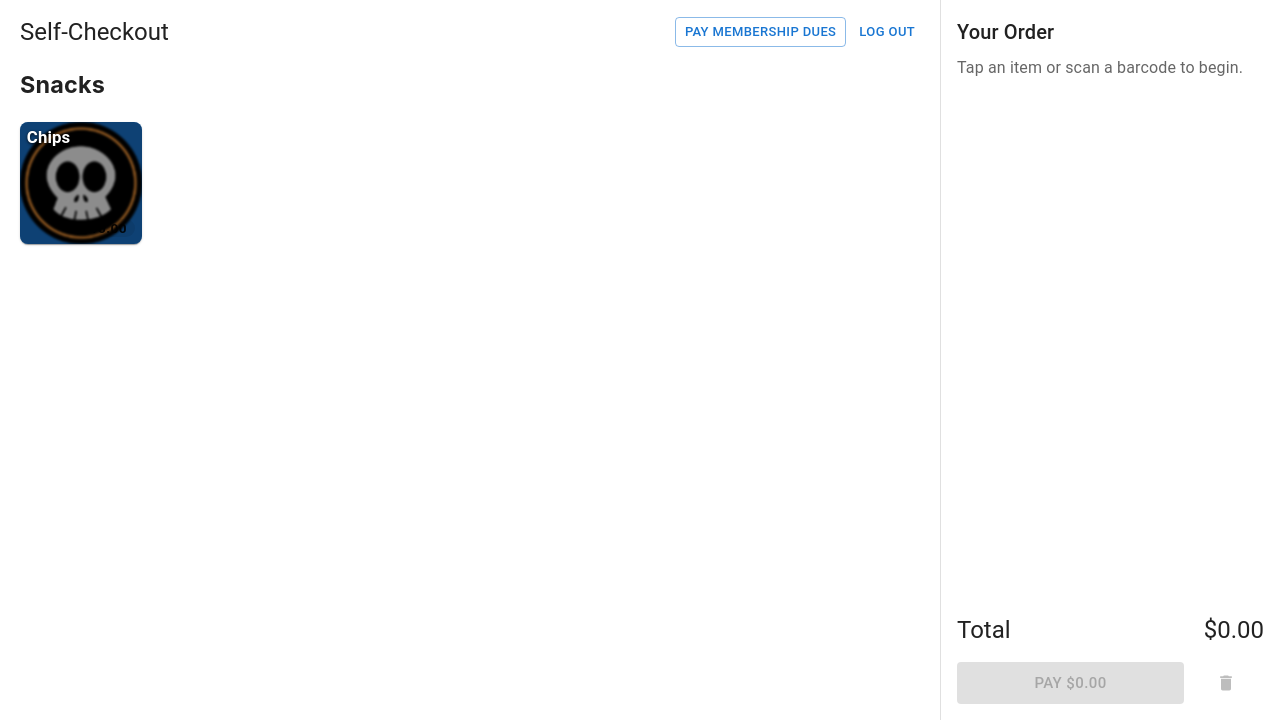
self-checkout card payment › threads the new transaction's id into chargeCard, so an intent can actually be minted
The width and height of the screenshot is (1280, 720).
Click the button "Chips $10.00": {"x": 81, "y": 183} x1=20 y1=122 x2=142 y2=244
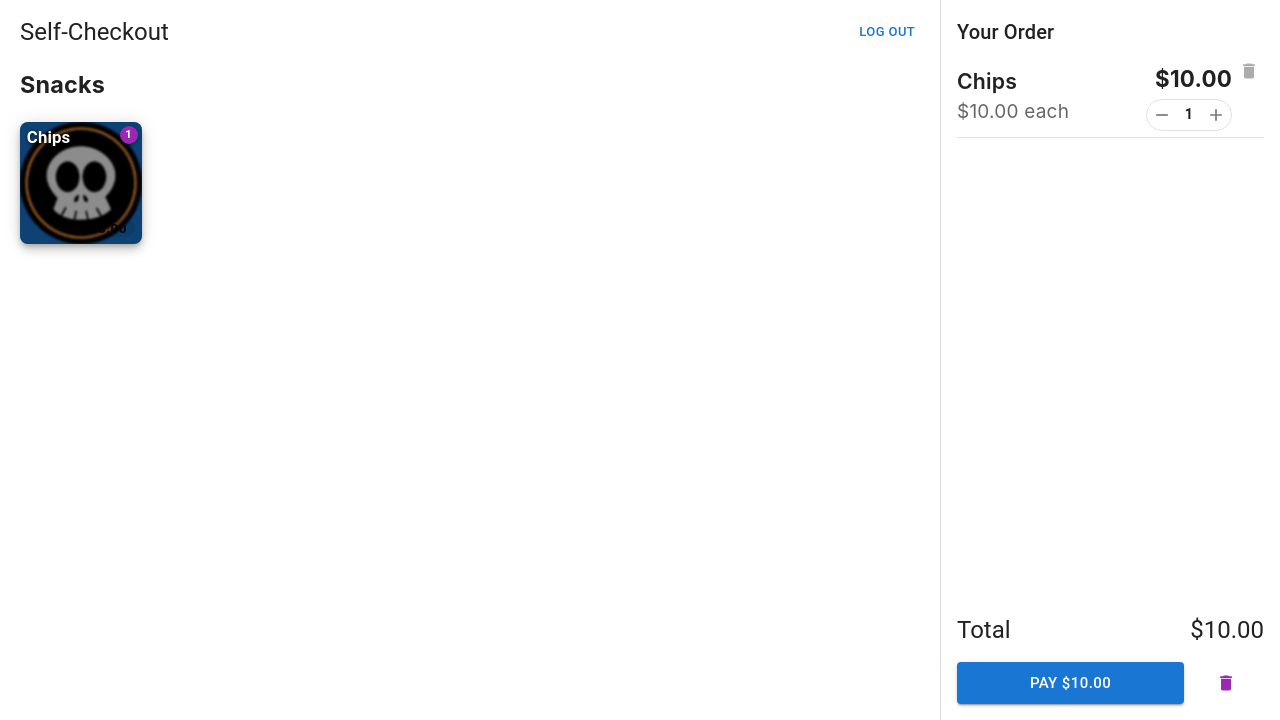
Click the button "Pay $10.00": {"x": 1071, "y": 683} x1=957 y1=662 x2=1184 y2=704
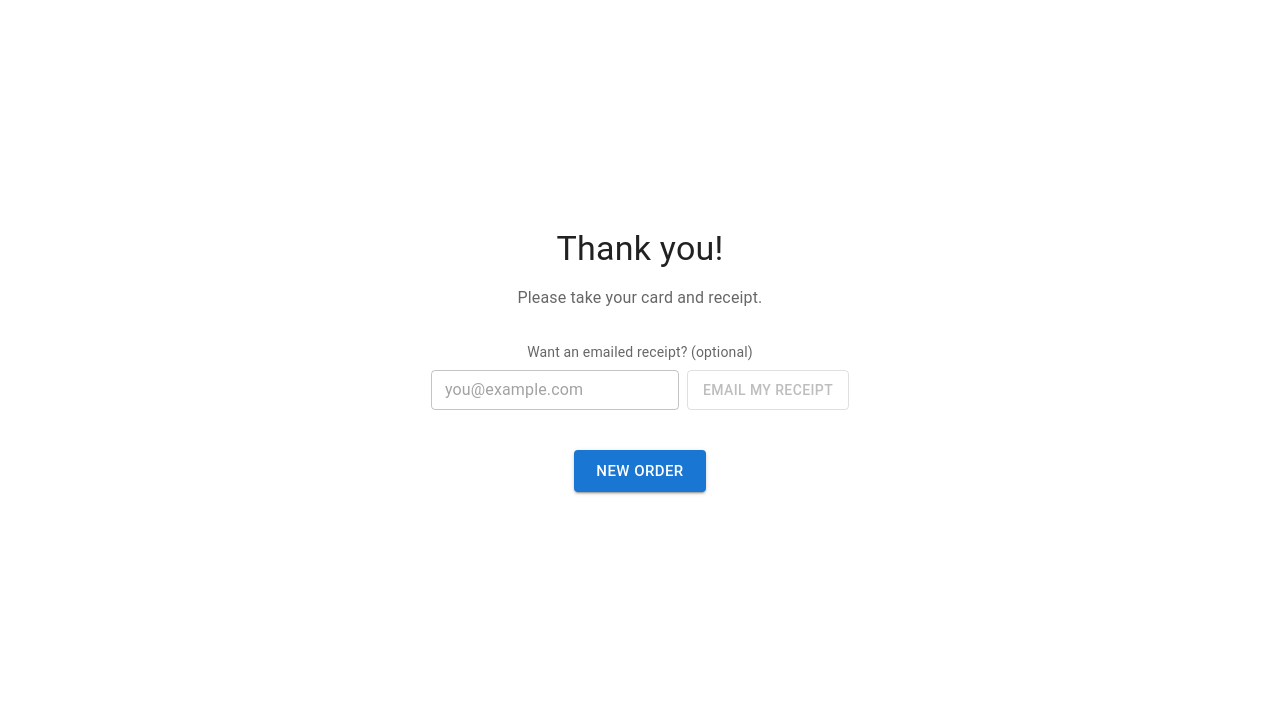
Expected: the heading "Thank you!" is shown, x1=556 y1=228 x2=724 y2=270
